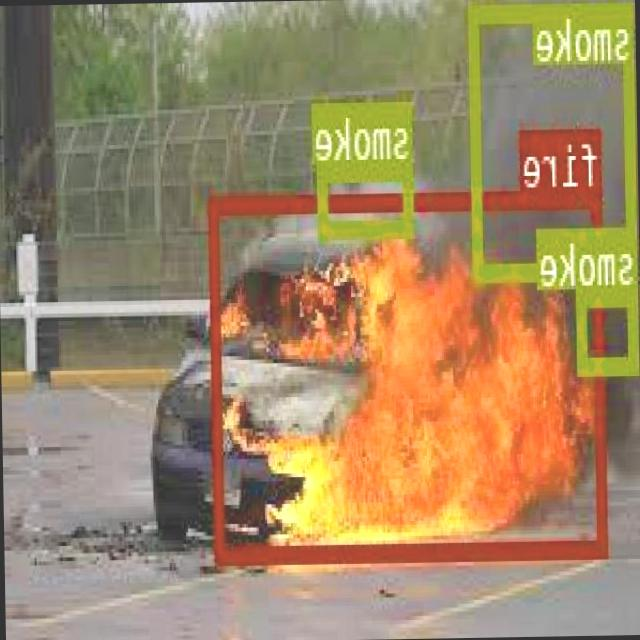fire: (212, 186, 610, 559)
smoke: (470, 2, 639, 276), (320, 159, 414, 233), (578, 286, 640, 372)
